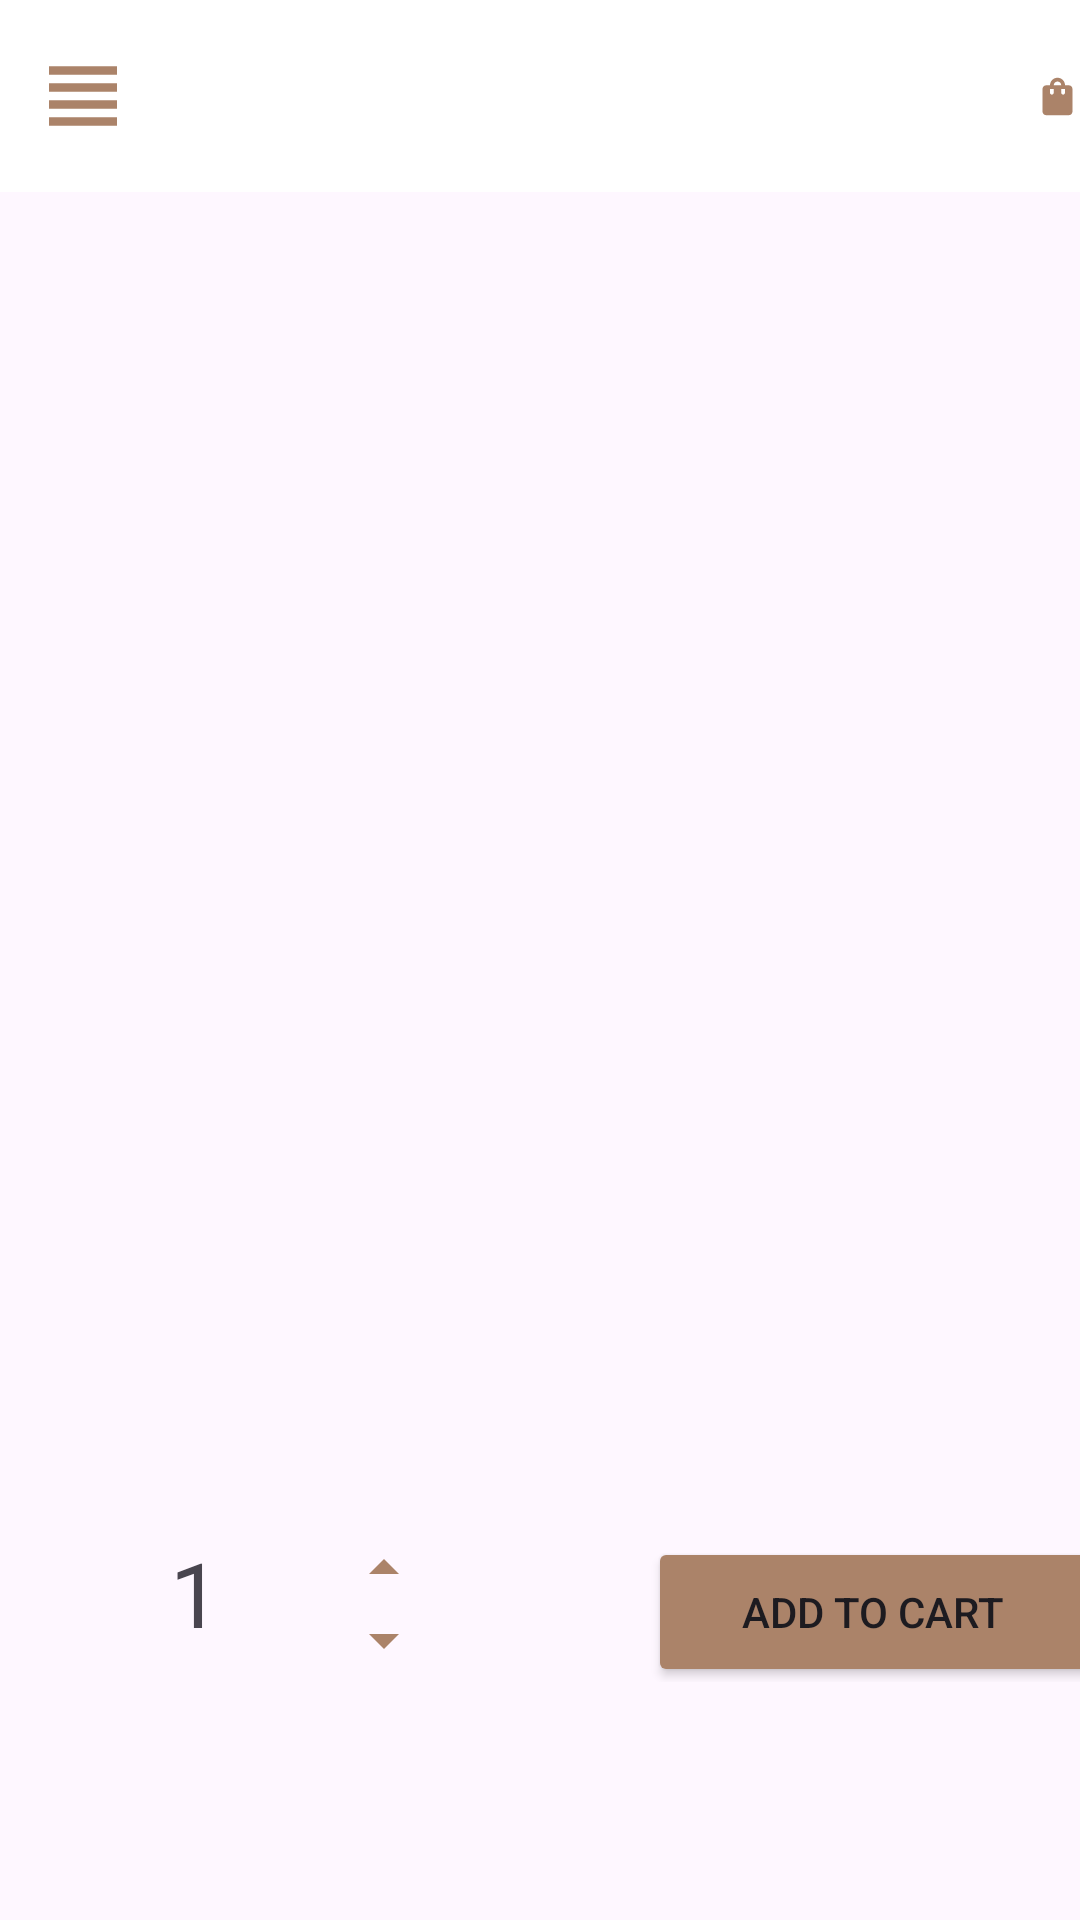

Icons on this 1080w x 1920h Android screen, each with its box as (x1, y1, x2, y2):
Shopping Cart Icon: (1042, 77, 1073, 116)
sidebar: (49, 66, 117, 126)
